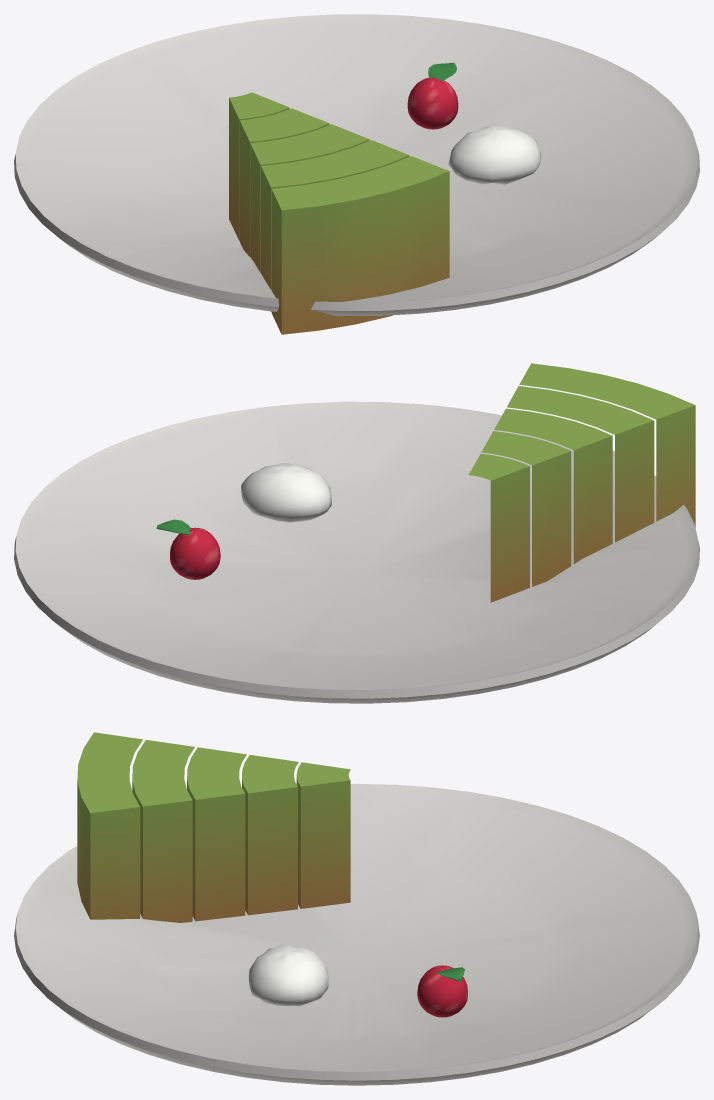
File: dish-matcha-cheesecake-lod0.glb
3 renders of one model, top to bottom at view 1: azimuth 30°, elevation 25°; view 2: azimuth 150°, elevation 25°; view 3: azimuth 270°, elevation 25°, orthographic.
Parts seen in each view (by area): view 1: matcha-cheesecake.lod0__table porcelain, matcha-cheesecake.lod0__food, matcha-cheesecake.lod0__food glaze; view 2: matcha-cheesecake.lod0__table porcelain, matcha-cheesecake.lod0__food, matcha-cheesecake.lod0__food glaze; view 3: matcha-cheesecake.lod0__table porcelain, matcha-cheesecake.lod0__food, matcha-cheesecake.lod0__food glaze.
Boxes of the visible parts, x1,y1,x2,y2 form: matcha-cheesecake.lod0__table porcelain: [14, 14, 699, 315]; matcha-cheesecake.lod0__food: [229, 62, 456, 334]; matcha-cheesecake.lod0__food glaze: [407, 77, 541, 184]; matcha-cheesecake.lod0__table porcelain: [14, 401, 699, 703]; matcha-cheesecake.lod0__food: [156, 363, 695, 602]; matcha-cheesecake.lod0__food glaze: [170, 463, 331, 579]; matcha-cheesecake.lod0__table porcelain: [14, 783, 699, 1085]; matcha-cheesecake.lod0__food: [77, 732, 464, 981]; matcha-cheesecake.lod0__food glaze: [248, 944, 467, 1017].
Size of the model in its own units: 0.2 by 0.05 by 0.2.
